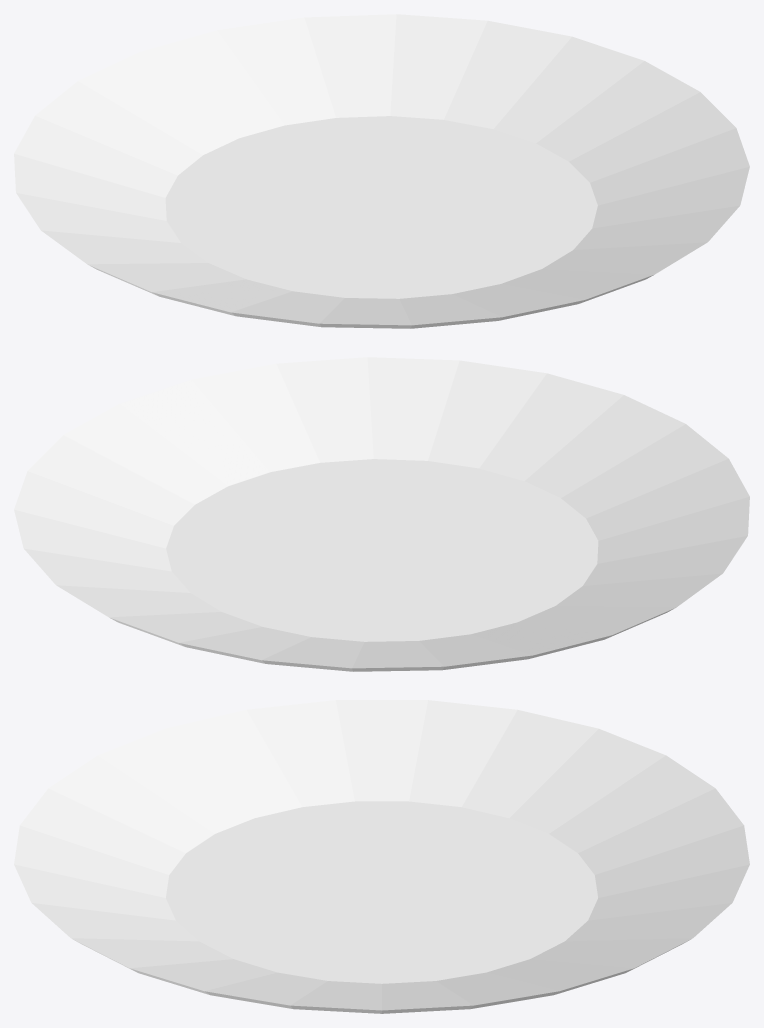
Rendered from Dish.FBX.
3 renders of one model, top to bottom at view 1: azimuth 30°, elevation 25°; view 2: azimuth 150°, elevation 25°; view 3: azimuth 270°, elevation 25°, orthographic.
Parts seen in each view (by area): view 1: dish; view 2: dish; view 3: dish.
Boxes of the visible parts, box(x1,y1,x2,y2) form: dish: box(14, 14, 749, 328); dish: box(14, 357, 749, 671); dish: box(14, 700, 749, 1013).
Size of the model in its own units: 24.43 by 24.48 by 2.46.
